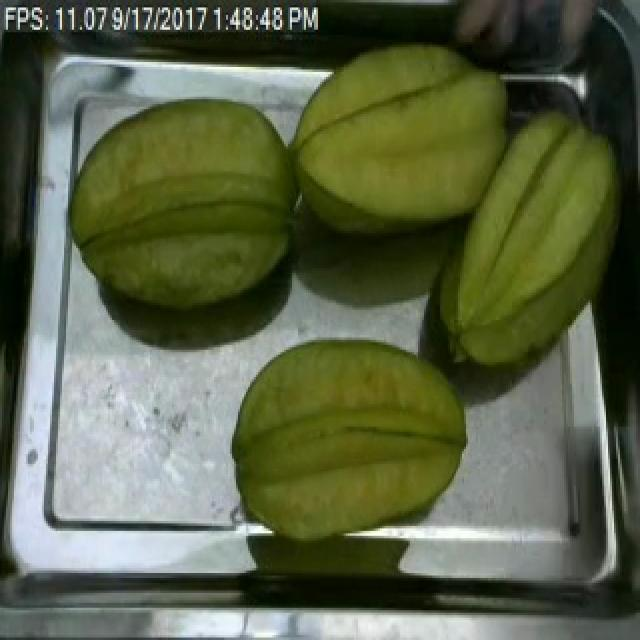fruit: (426, 90, 638, 380), (58, 87, 310, 322), (220, 328, 480, 553), (274, 35, 540, 248)
